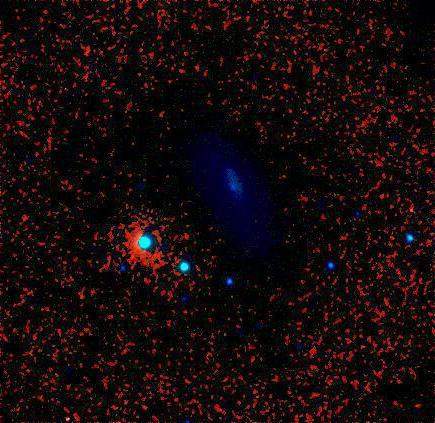star: (413, 37, 435, 67)
